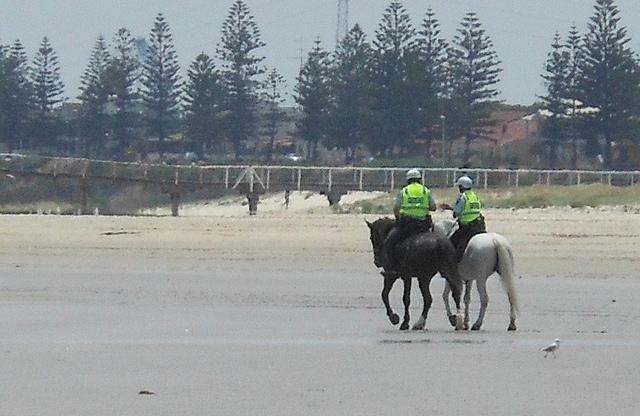car: (284, 152, 303, 162), (198, 160, 207, 166)
